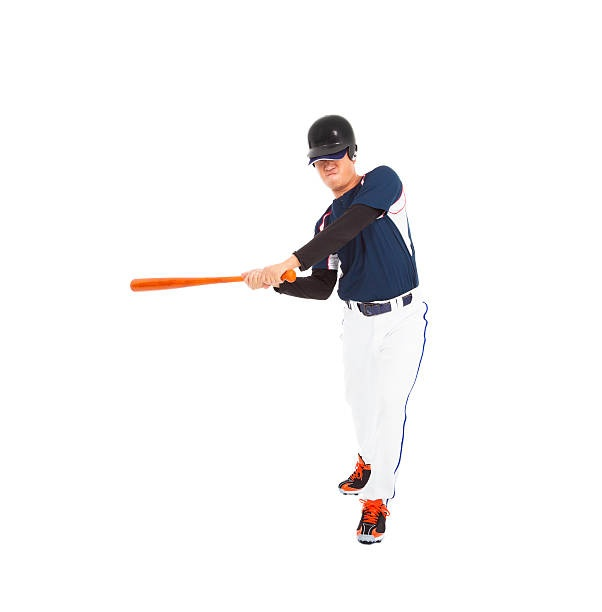bita: (127, 271, 295, 305)
